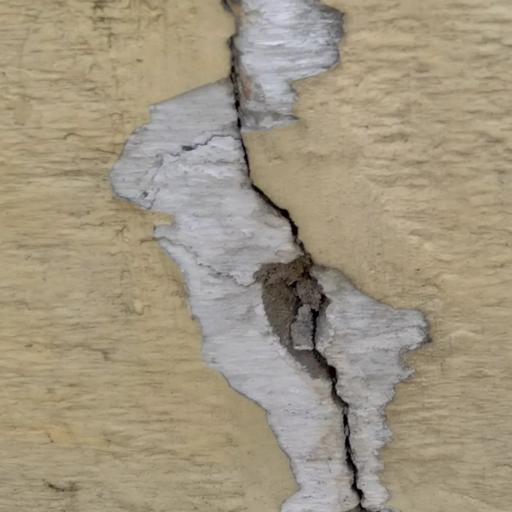major_crack: (184, 0, 404, 512)
